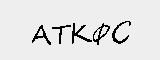А: (29, 24, 53, 46)
К: (69, 22, 93, 45)
С: (111, 17, 132, 44)
Т: (51, 24, 70, 44)
Ф: (90, 21, 109, 46)
